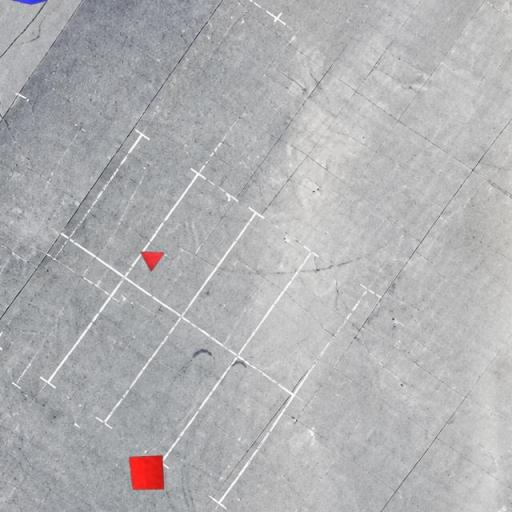RED_SQUARE: (128, 454, 165, 490)
